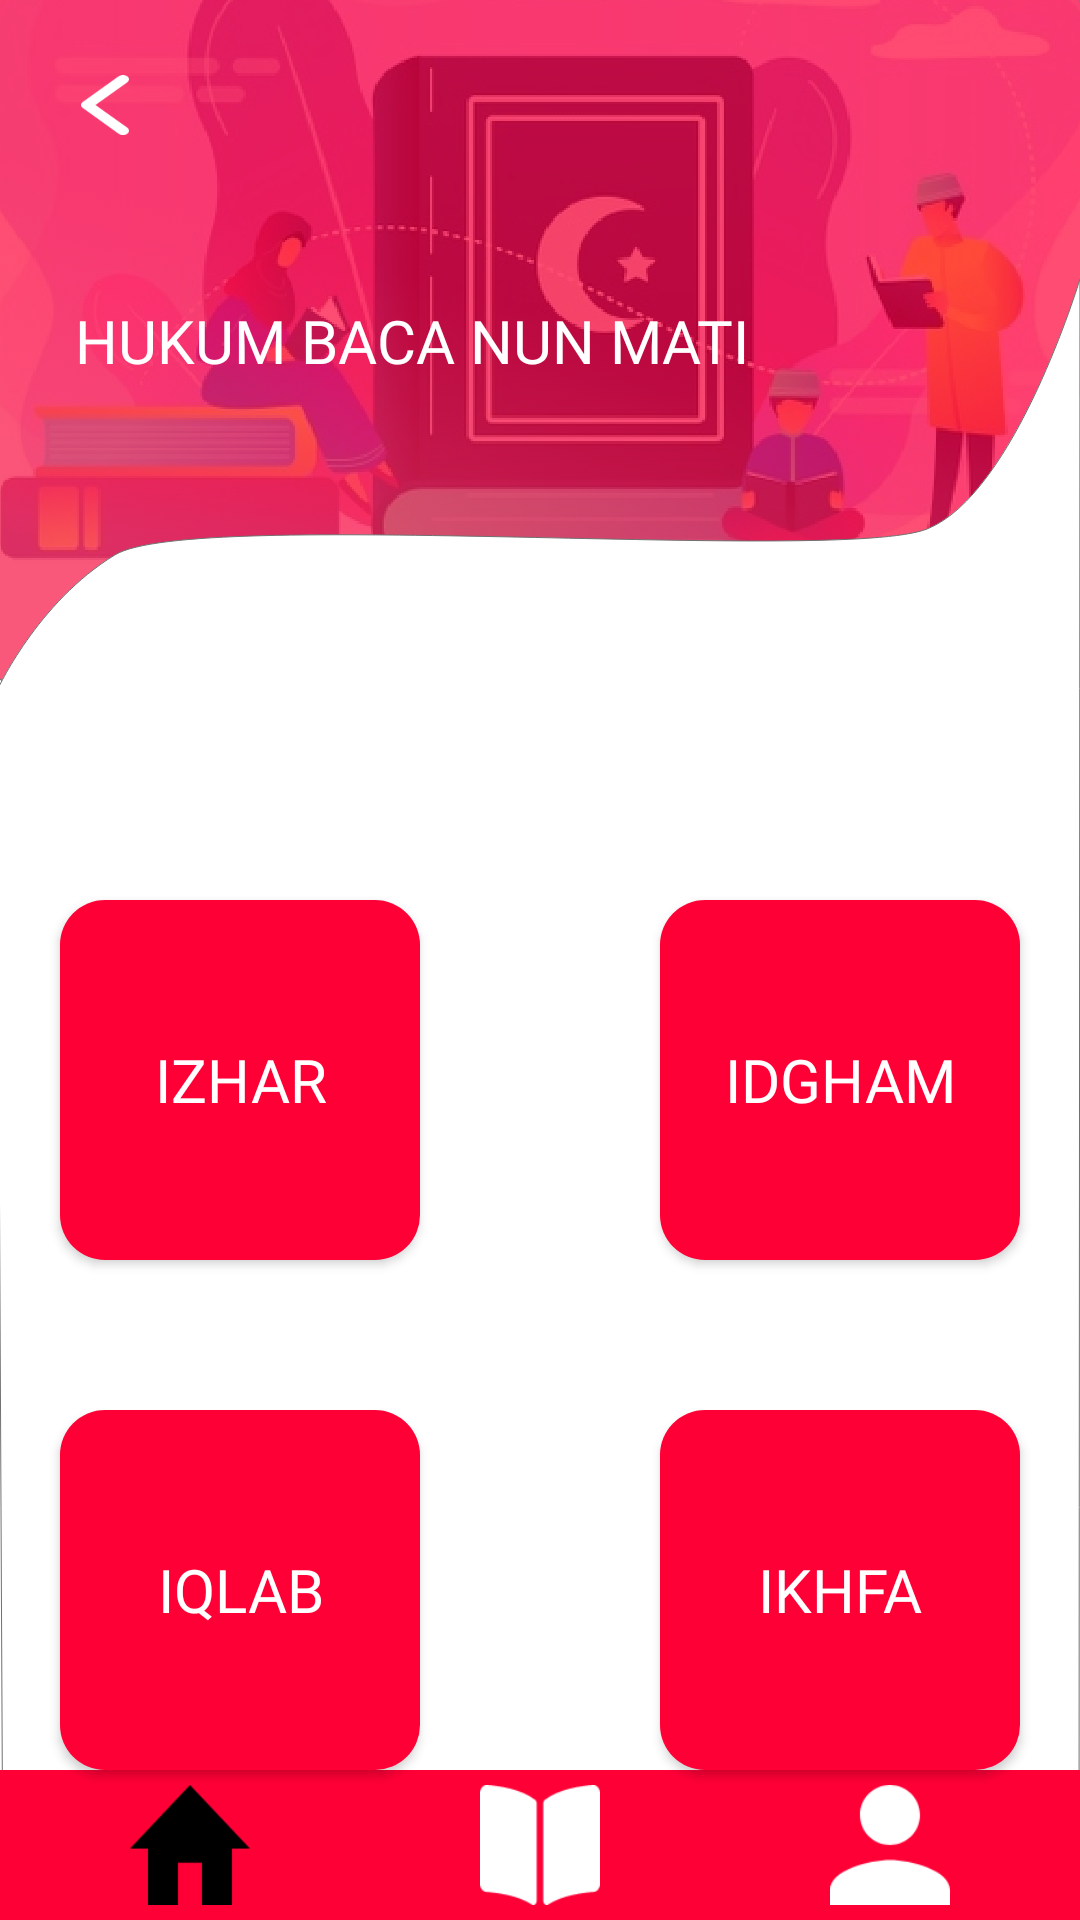

Where to tap for icons on this 1080 × 1920 app screen, as point (x, y):
akun: point (890, 1845)
back: point (105, 105)
home: point (190, 1845)
